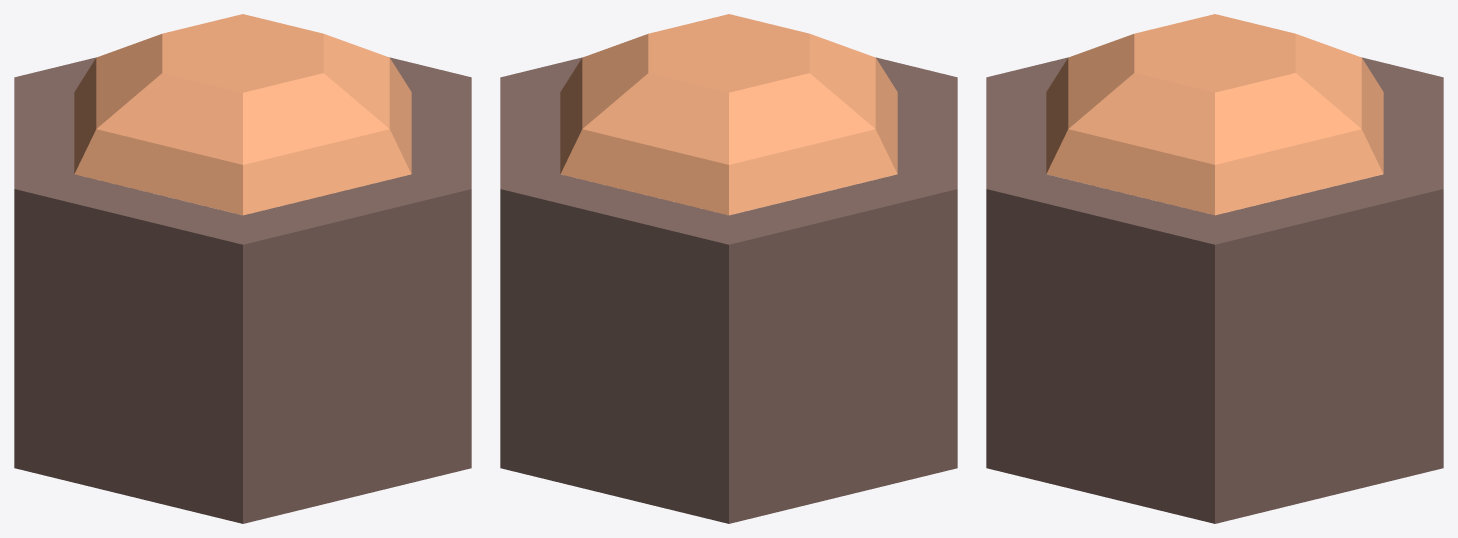
3 views of the same model, side by side, from view 1: azimuth 30°, elevation 25°; view 2: azimuth 150°, elevation 25°; view 3: azimuth 270°, elevation 25° (orthographic).
Visible parts, largest first — view 1: makiRoe; view 2: makiRoe; view 3: makiRoe.
Part boxes in pixels (<box>): makiRoe: <box>14,14,471,523</box>; makiRoe: <box>500,14,957,523</box>; makiRoe: <box>986,14,1443,523</box>.
Bounding box in the file's own units: 0.12 × 0.09 × 0.1039.
